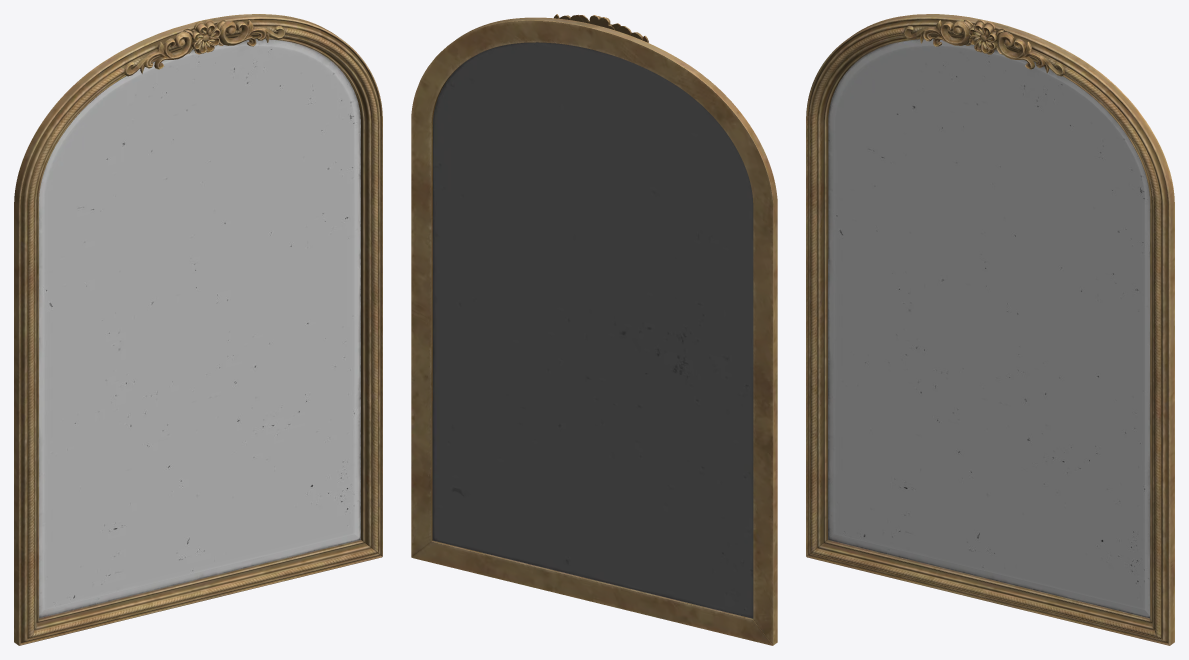
Rendered from ornate_mirror_01.glb.
The picture shows the model from 3 angles, left to right: view 1: azimuth 30°, elevation 25°; view 2: azimuth 150°, elevation 25°; view 3: azimuth 330°, elevation 25°; orthographic projection.
Parts seen in each view (by area): view 1: ornate_mirror_01; view 2: ornate_mirror_01; view 3: ornate_mirror_01.
Boxes of the visible parts, box(x1,y1,x2,y2) form: ornate_mirror_01: box(14, 14, 382, 645); ornate_mirror_01: box(411, 14, 777, 645); ornate_mirror_01: box(806, 14, 1174, 645).
Bounding box in the file's own units: 0.4865 × 0.7442 × 0.026.
1 material, 1 textured.
